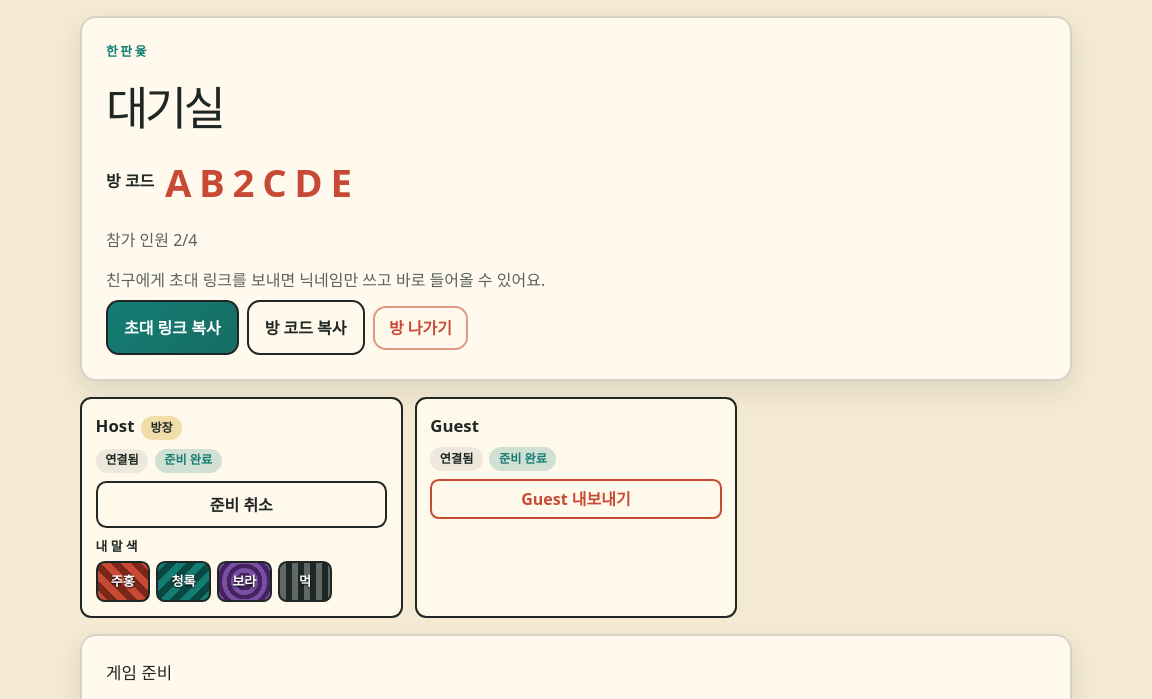
Test: WaitingRoom › copies an invite link that opens this room
Click the button "초대 링크 복사": {"x": 172, "y": 328} [106,300,239,355]
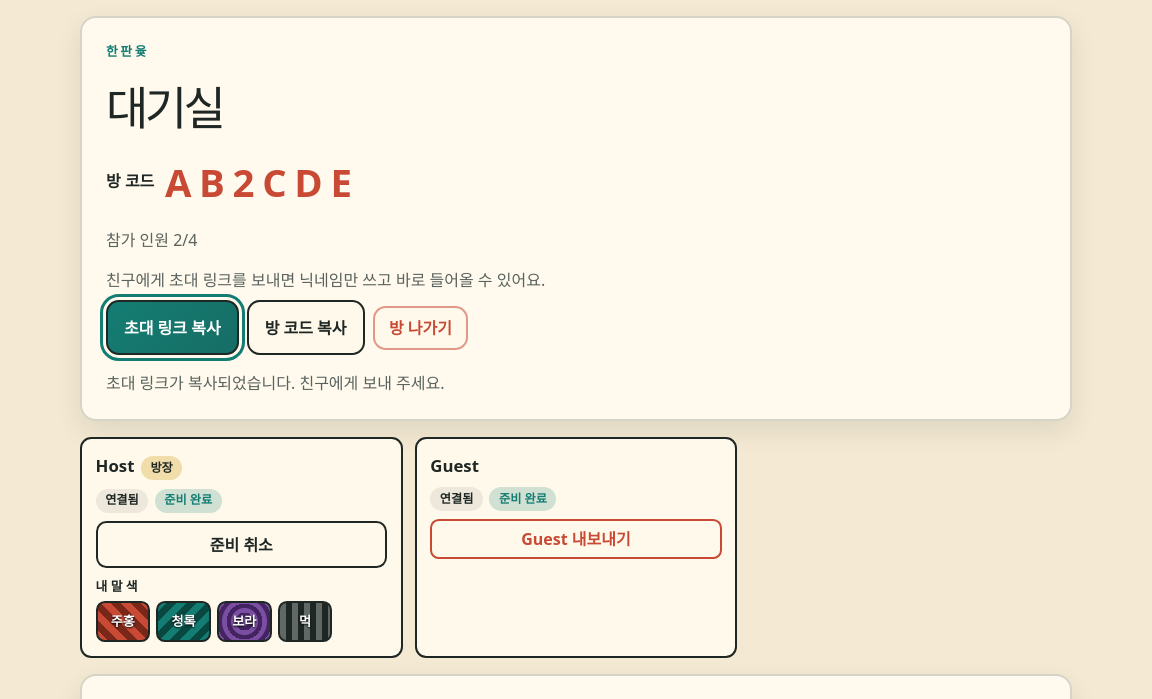
Expected: the message shows "초대 링크가 복사되었습니다", [106,372,444,394]
